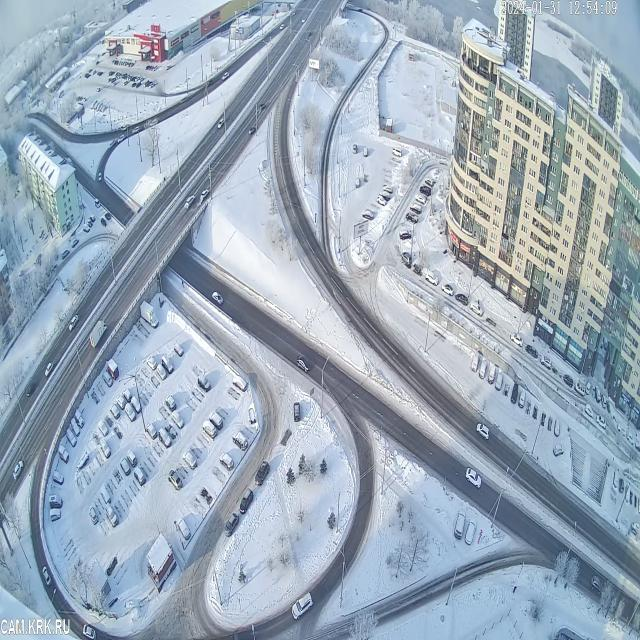car: (291, 590, 313, 620), (140, 300, 159, 330), (90, 321, 108, 349), (453, 508, 466, 542), (465, 466, 482, 491), (255, 460, 270, 488), (239, 488, 254, 514), (177, 515, 191, 541), (224, 513, 239, 537), (196, 371, 211, 394), (233, 429, 248, 452), (105, 502, 118, 528), (209, 409, 223, 433), (464, 518, 476, 546), (170, 408, 185, 430), (220, 450, 234, 473), (233, 373, 248, 394), (168, 470, 183, 491), (590, 573, 603, 597), (297, 354, 311, 376), (202, 420, 217, 440), (159, 426, 172, 449), (133, 464, 146, 486), (183, 450, 197, 470), (108, 358, 120, 381), (124, 401, 136, 423), (82, 622, 96, 640), (49, 493, 63, 511), (470, 301, 484, 319), (476, 422, 489, 441), (131, 394, 142, 416), (118, 456, 130, 476), (161, 354, 173, 374), (510, 331, 523, 349), (58, 444, 69, 465), (65, 427, 76, 448), (426, 269, 438, 288), (470, 349, 479, 374), (495, 367, 504, 392), (75, 407, 85, 429), (101, 484, 111, 506), (165, 394, 176, 414), (24, 381, 36, 399), (212, 290, 224, 308), (456, 290, 468, 308), (526, 342, 538, 360), (410, 198, 422, 216), (42, 567, 52, 588), (70, 418, 80, 439), (13, 460, 23, 481), (88, 505, 98, 526), (541, 352, 552, 371), (52, 470, 64, 487), (172, 341, 184, 358), (115, 393, 127, 410), (97, 419, 109, 436), (122, 386, 132, 406), (110, 401, 120, 421), (101, 439, 111, 459), (68, 314, 79, 332), (146, 422, 157, 440), (441, 281, 454, 296), (414, 191, 426, 207), (419, 182, 431, 198), (479, 356, 487, 380), (553, 415, 561, 439), (127, 450, 137, 469), (102, 371, 113, 388), (401, 249, 412, 266), (292, 400, 300, 423), (488, 362, 495, 388), (44, 361, 54, 379), (156, 364, 166, 382), (147, 354, 157, 372), (185, 192, 195, 210), (399, 227, 411, 242), (596, 412, 606, 430), (50, 507, 61, 523), (391, 143, 402, 159), (518, 388, 526, 410), (553, 443, 564, 459), (593, 383, 601, 405), (630, 520, 640, 537), (406, 211, 418, 225), (382, 182, 393, 197), (585, 402, 594, 420), (511, 382, 518, 404), (584, 377, 592, 396), (575, 382, 585, 397), (380, 187, 390, 202), (424, 175, 434, 190), (617, 422, 626, 438), (618, 472, 624, 496), (69, 235, 79, 249), (376, 194, 386, 208), (624, 481, 630, 504), (564, 372, 573, 387), (363, 208, 374, 220), (626, 429, 634, 445), (60, 248, 70, 260), (200, 189, 209, 201), (601, 392, 607, 410), (613, 468, 618, 488), (104, 209, 111, 223), (85, 217, 93, 228), (99, 218, 107, 229), (362, 146, 368, 158), (94, 198, 100, 208), (84, 225, 91, 233), (356, 175, 360, 189), (353, 142, 357, 155), (90, 214, 95, 223)
